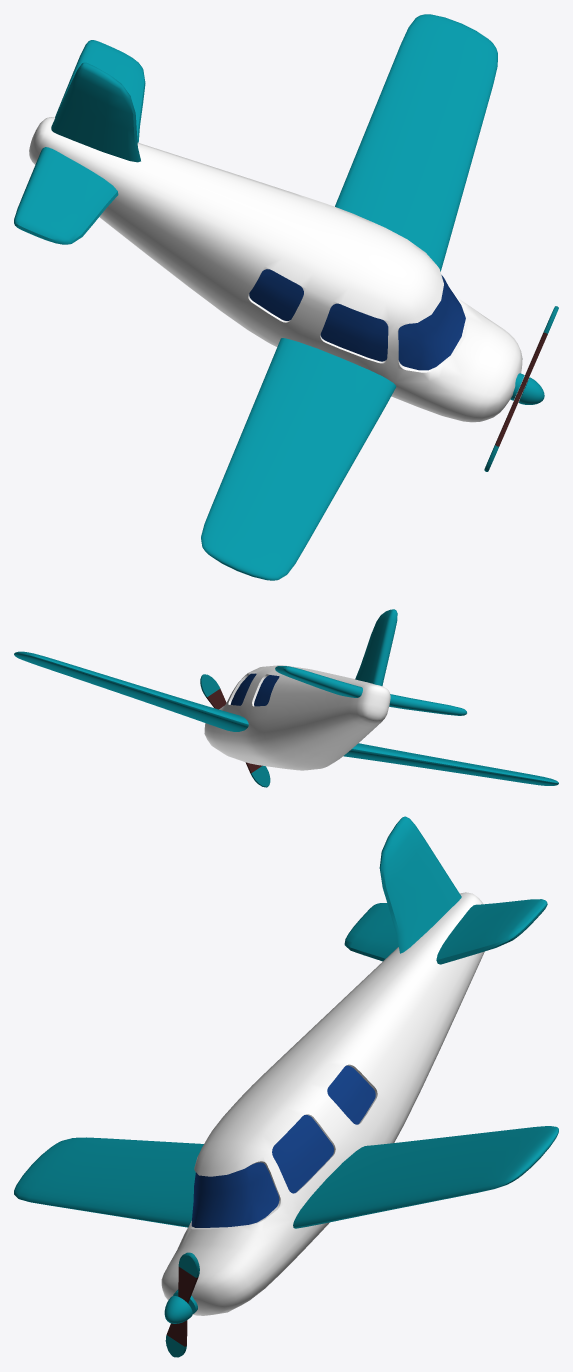
File: small_airplane.fbx
The picture shows the model from 3 angles, top to bottom: view 1: azimuth 30°, elevation 25°; view 2: azimuth 150°, elevation 25°; view 3: azimuth 270°, elevation 25°; orthographic projection. The views are drawn at different scales.
Parts seen in each view (by area): view 1: Cube.790; view 2: Cube.790; view 3: Cube.790.
Boxes of the visible parts, left/top/right/bottom form: Cube.790: left=14, top=14, right=558, bottom=580; Cube.790: left=14, top=609, right=558, bottom=787; Cube.790: left=14, top=816, right=558, bottom=1357.
Bounding box in the file's own units: 255 × 176 × 218.
1 material, 1 textured.
